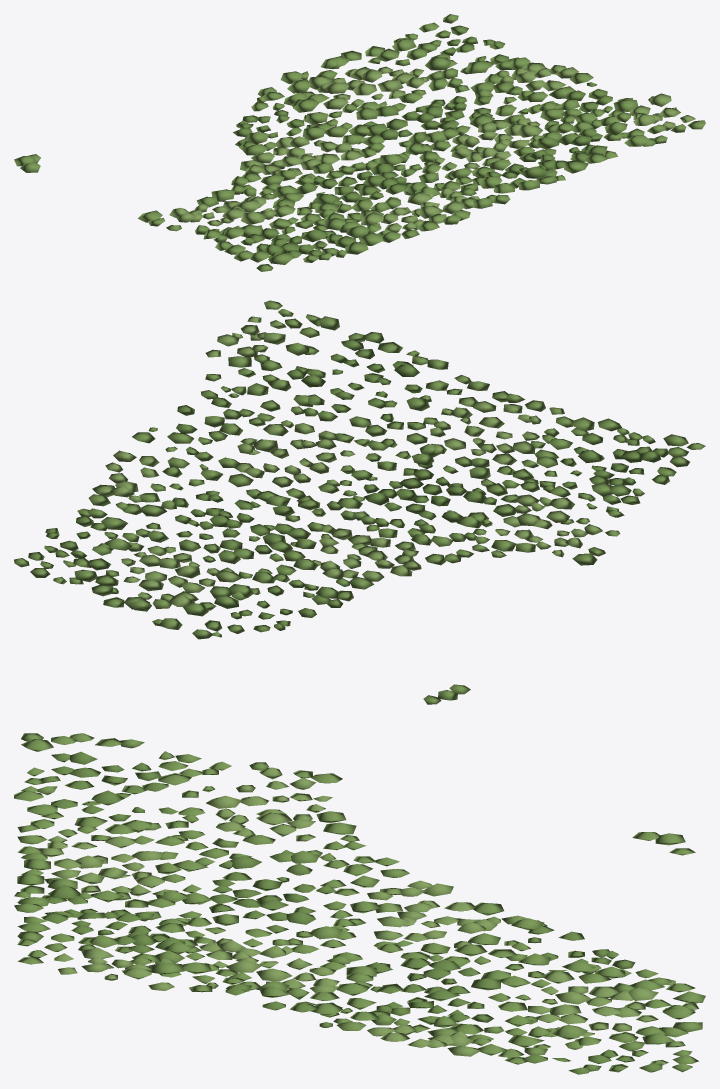
Rendered from canopy-1--5-2.glb.
The picture shows the model from 3 angles, top to bottom: view 1: azimuth 30°, elevation 25°; view 2: azimuth 150°, elevation 25°; view 3: azimuth 270°, elevation 25°; orthographic projection. The views are drawn at different scales.
Bounding box in the file's own units: 515 × 130 × 515.
Materials: 1 (1 with a texture image).
